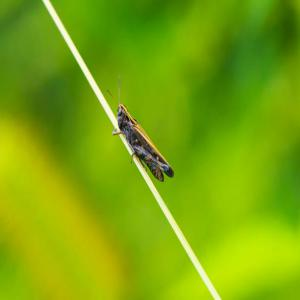locust: (91, 72, 189, 187)
